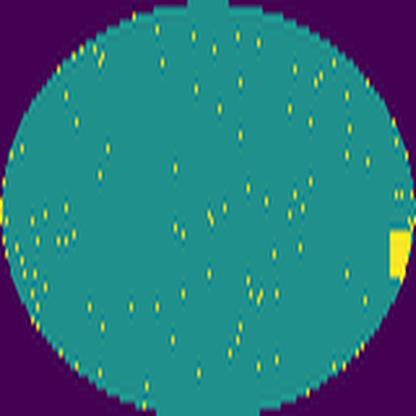Edge-Loc: (384, 226, 415, 284)
